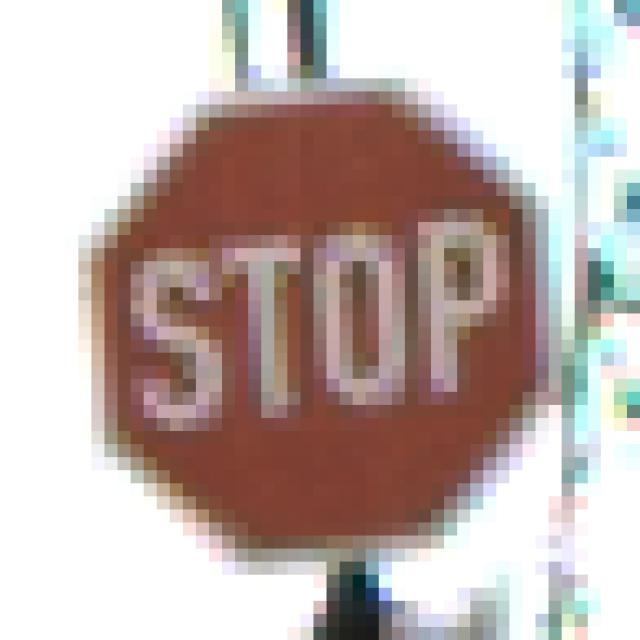STOP: (66, 66, 576, 576)
